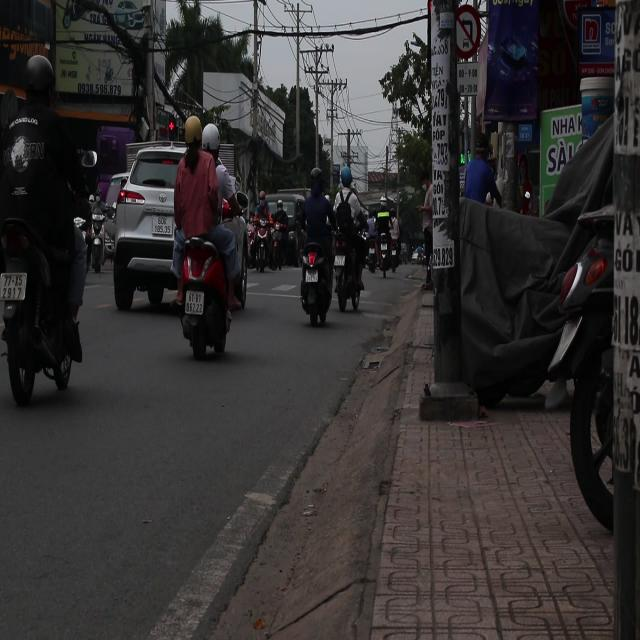motorbike: (0, 218, 93, 404), (111, 147, 182, 311), (174, 227, 236, 361), (301, 230, 333, 323), (88, 192, 118, 273), (335, 244, 369, 312), (375, 213, 403, 278), (248, 218, 278, 273)
